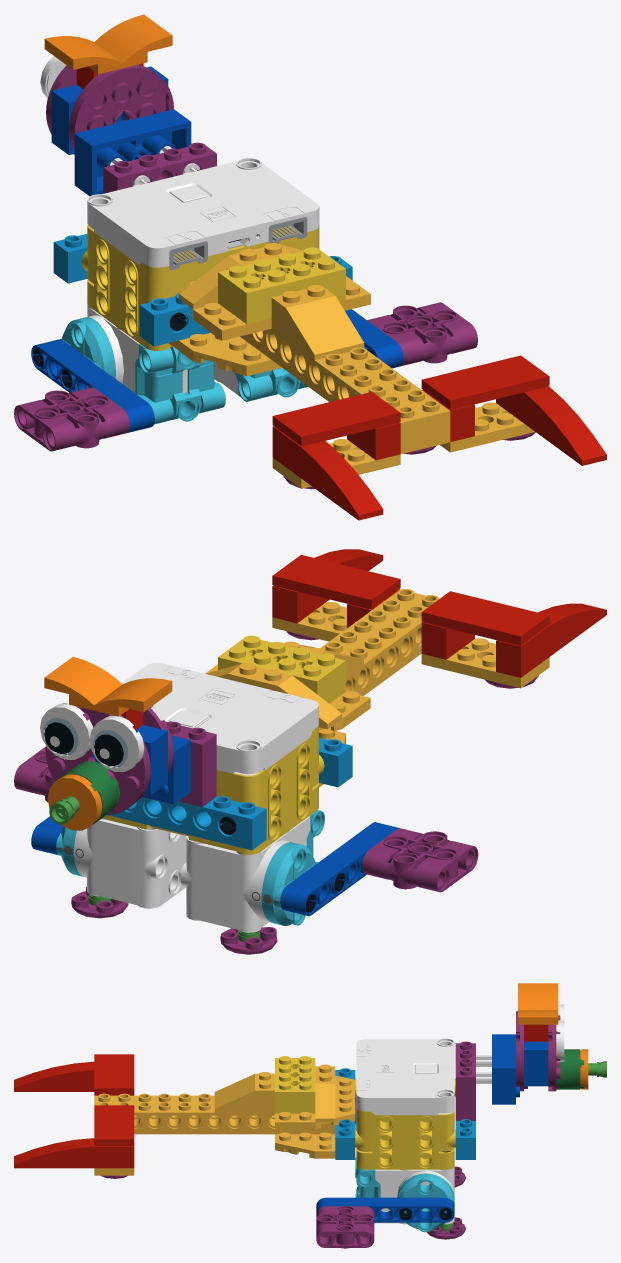
Rendered from hải cẩu.glb.
The picture shows the model from 3 angles, top to bottom: view 1: azimuth 30°, elevation 25°; view 2: azimuth 150°, elevation 25°; view 3: azimuth 270°, elevation 25°; orthographic projection. The views are drawn at different scales.
Parts seen in each view (by area): view 1: Node1; view 2: Node1; view 3: Node1.
Part boxes in pixels (x1,y1,x2,y2): Node1: (14, 14, 606, 520); Node1: (14, 549, 606, 954); Node1: (14, 983, 606, 1248).
Size of the model in its own units: 340 by 230 by 591.
